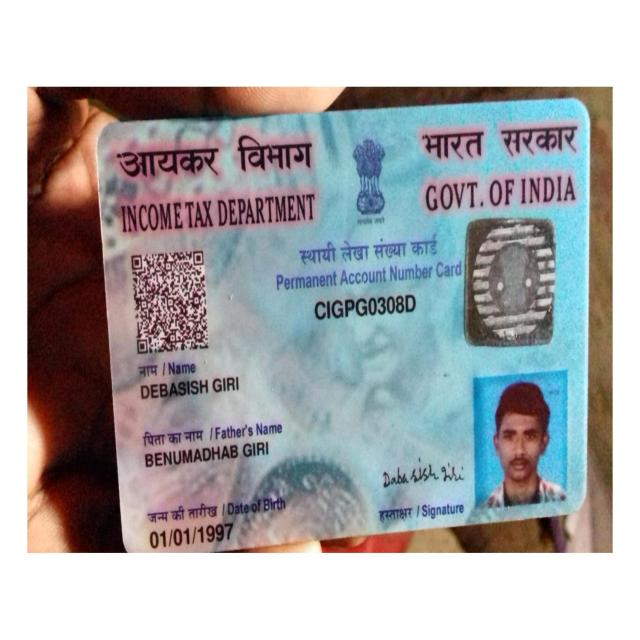pan_card: (100, 105, 589, 554)
